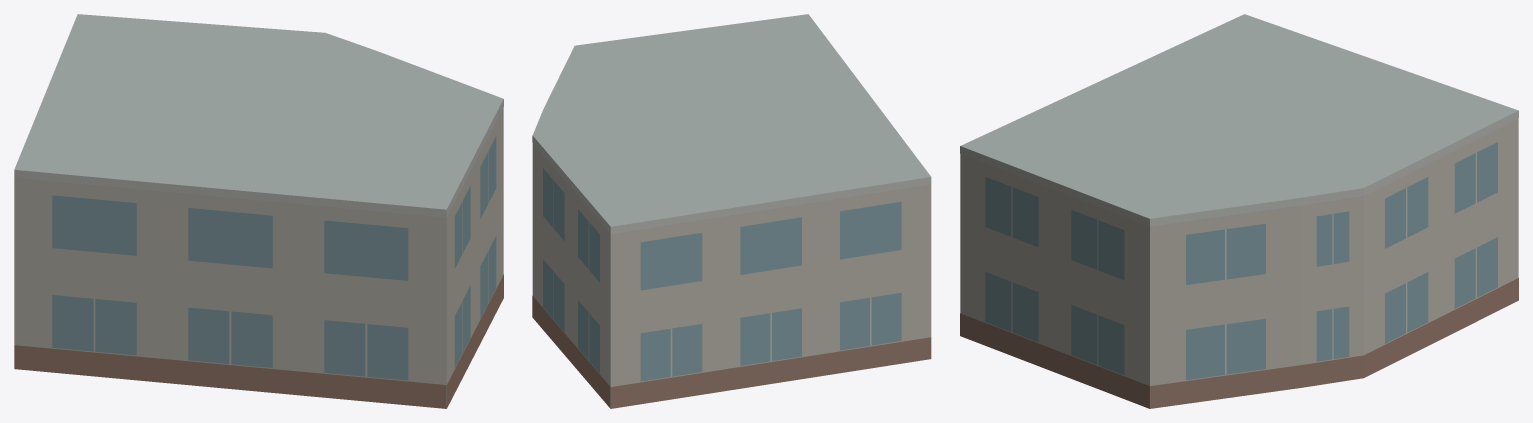
The model's file is survey-upis-32708092.glb.
3 renders of one model, left to right at view 1: azimuth 30°, elevation 25°; view 2: azimuth 150°, elevation 25°; view 3: azimuth 270°, elevation 25°, orthographic. The views are drawn at different scales.
Parts seen in each view (by area): view 1: survey-upis-32708092.tmp; view 2: survey-upis-32708092.tmp; view 3: survey-upis-32708092.tmp.
Boxes of the visible parts, x1,y1,x2,y2 form: survey-upis-32708092.tmp: (14, 14, 503, 408); survey-upis-32708092.tmp: (532, 14, 931, 408); survey-upis-32708092.tmp: (960, 14, 1518, 408).
Bounding box in the file's own units: 14.11 × 6.1 × 16.25.
